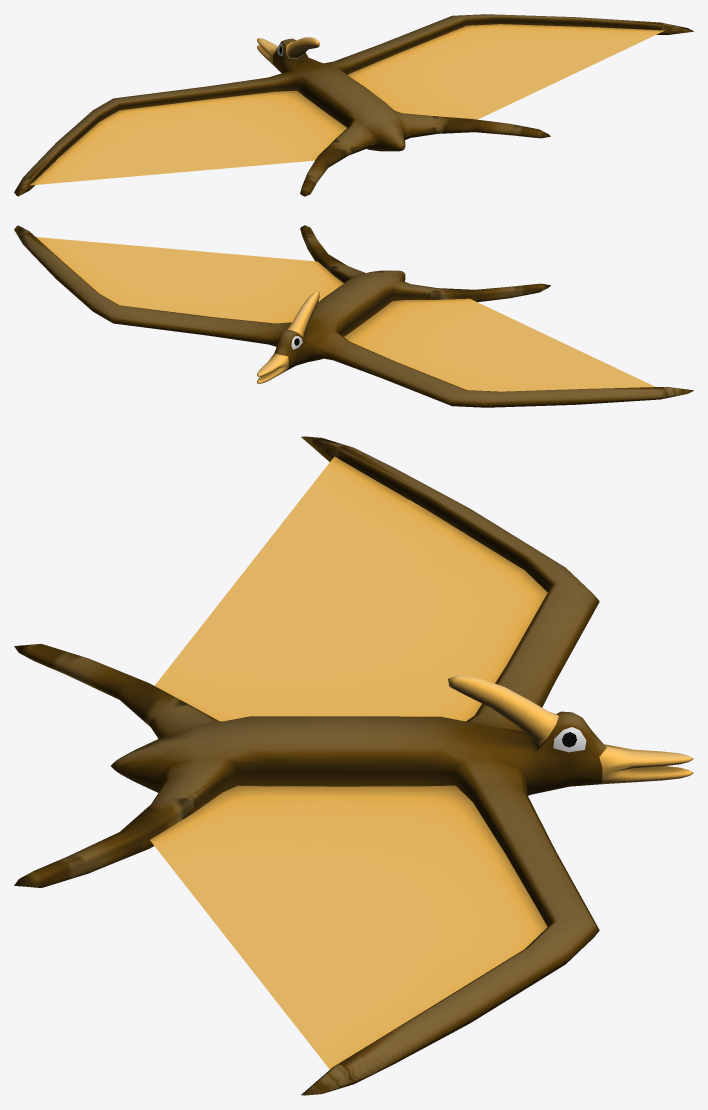
File: ptero.obj
3 views of the same model, one above another, from view 1: azimuth 30°, elevation 25°; view 2: azimuth 150°, elevation 25°; view 3: azimuth 270°, elevation 25° (orthographic). The views are drawn at different scales.
Parts seen in each view (by area): view 1: Box01_Box01Mesh; view 2: Box01_Box01Mesh; view 3: Box01_Box01Mesh.
Part boxes in pixels (x1,y1,x2,y2): Box01_Box01Mesh: (14,14,693,196); Box01_Box01Mesh: (14,225,693,407); Box01_Box01Mesh: (14,436,693,1095).
Size of the model in its own units: 13.64 by 1.24 by 5.95.
Materials: 1 (1 with a texture image).
